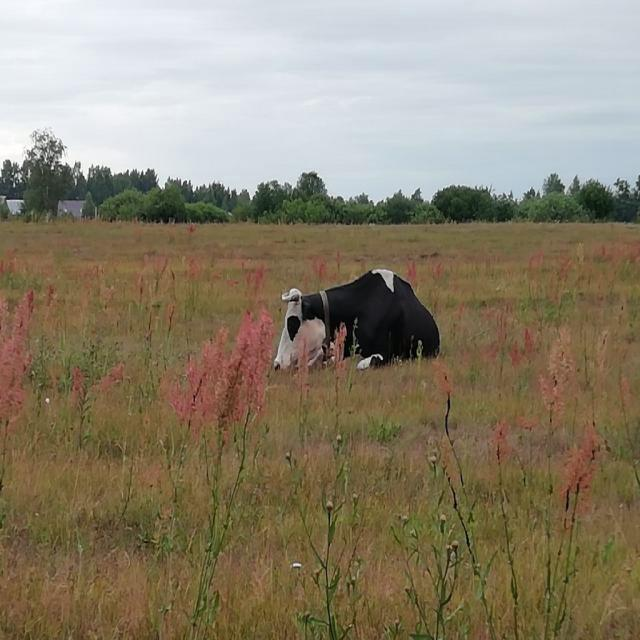cow: (274, 269, 440, 369)
